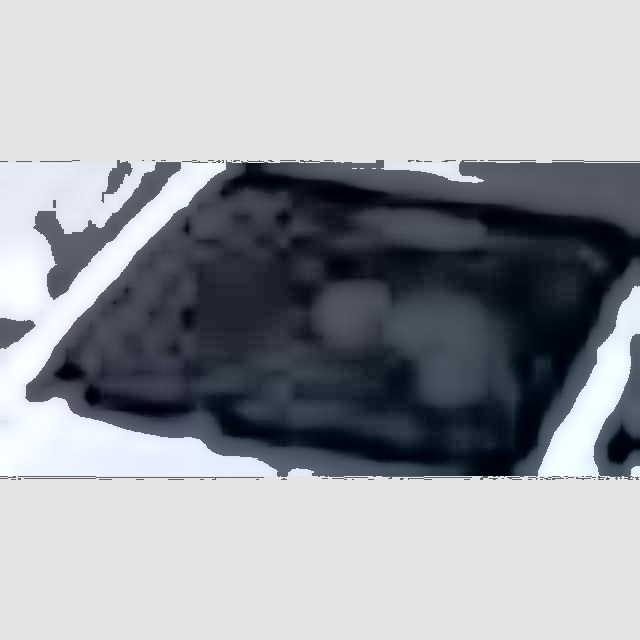tidak-pakai: (266, 235, 507, 417)
